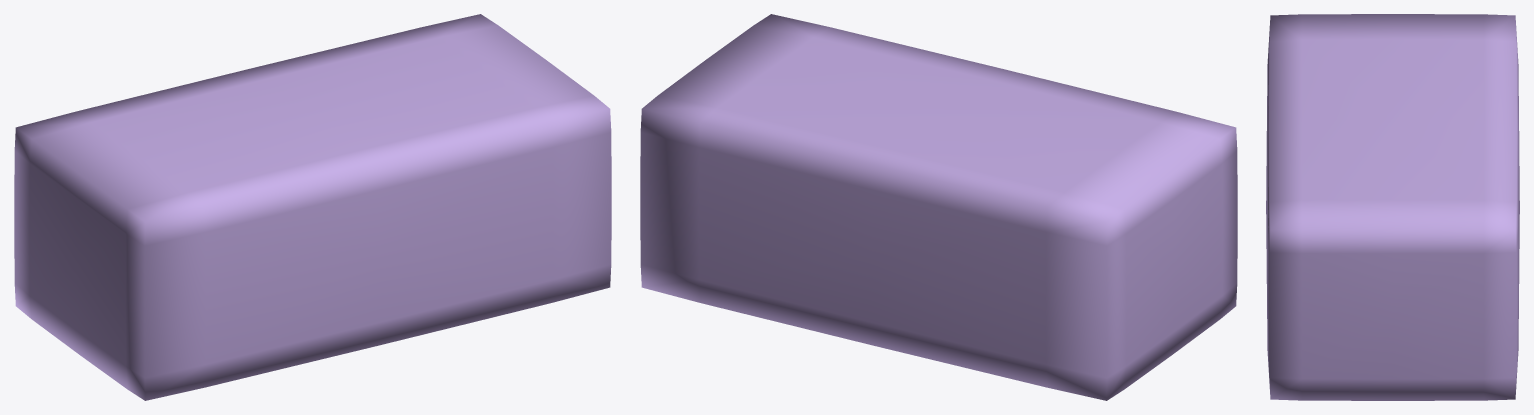
Rendered from Stage.FBX.
3 renders of one model, left to right at view 1: azimuth 30°, elevation 25°; view 2: azimuth 150°, elevation 25°; view 3: azimuth 270°, elevation 25°, orthographic. The views are drawn at different scales.
Parts seen in each view (by area): view 1: Box001; view 2: Box001; view 3: Box001.
Boxes of the visible parts, box(x1,y1,x2,y2) form: Box001: box(14, 14, 611, 400); Box001: box(640, 14, 1237, 400); Box001: box(1266, 14, 1519, 400).
Bounding box in the file's own units: 7735 × 2925 × 3797.
1 material, 1 textured.
